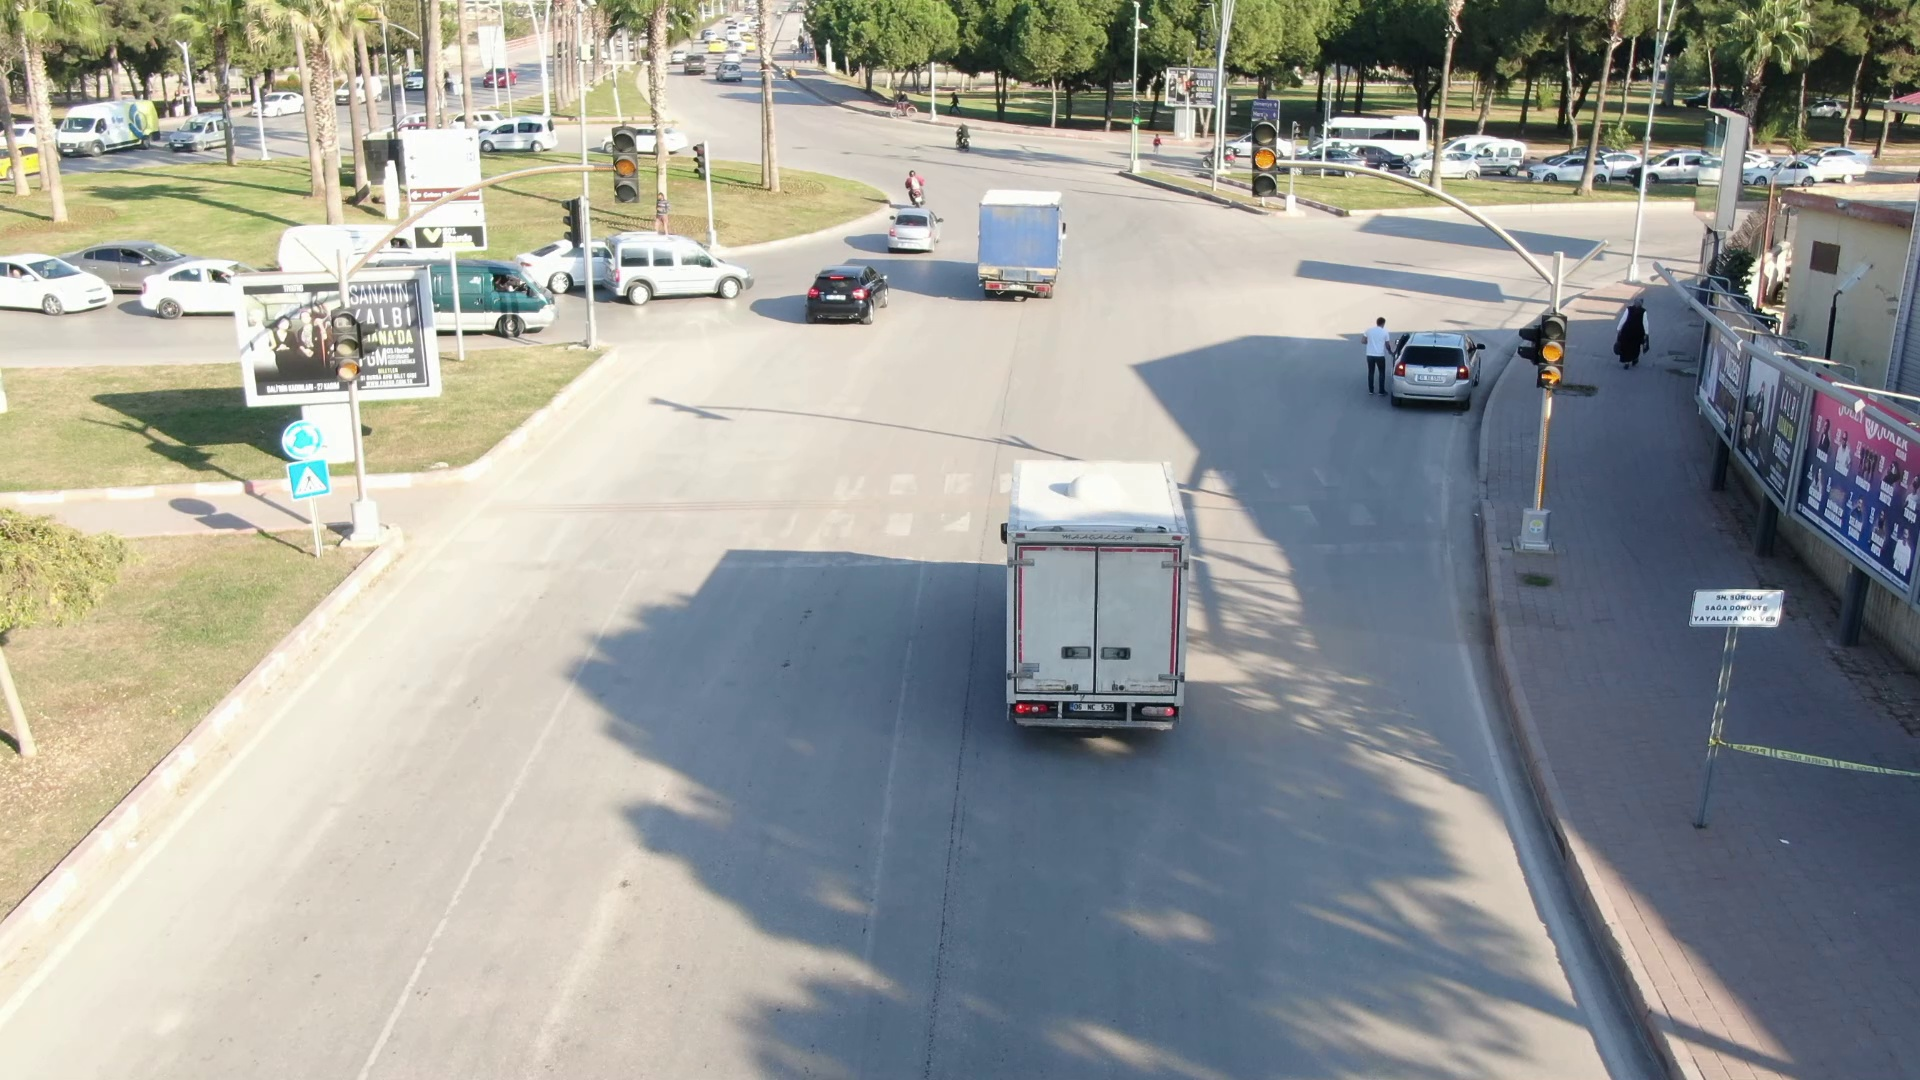car: (980, 434, 1234, 756), (963, 181, 1085, 304), (608, 223, 760, 314), (1, 238, 116, 330), (795, 253, 895, 333), (1389, 326, 1484, 407), (889, 210, 946, 254)
person: (1613, 291, 1655, 384), (1357, 314, 1392, 400)
